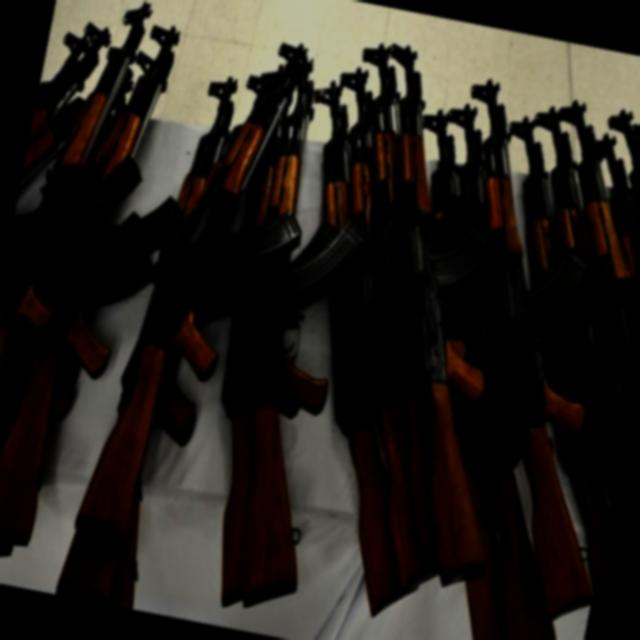ak: (296, 42, 590, 590), (76, 17, 338, 567), (0, 0, 173, 524)
